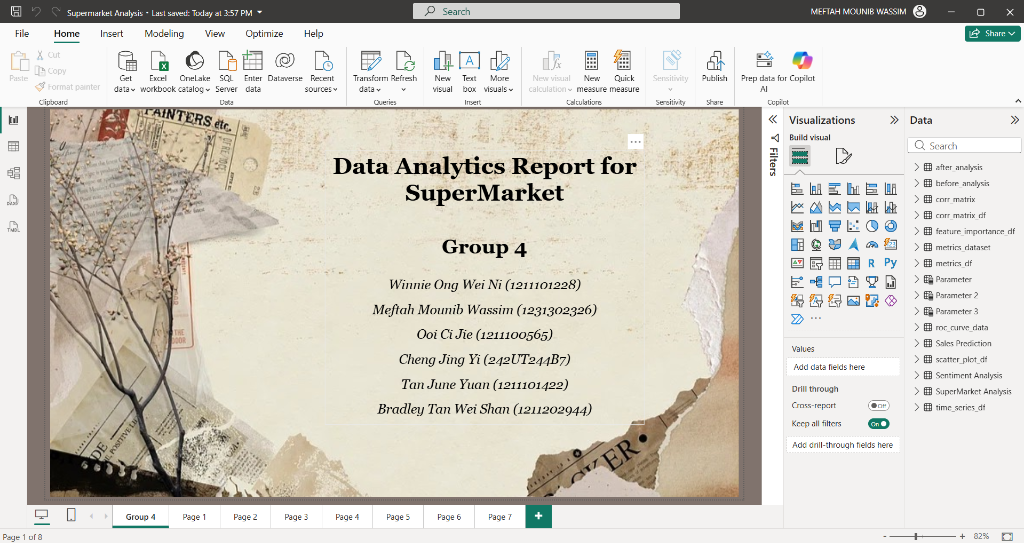

The page's visual inventory and layout, read from the dashboard file:
{"tool":"powerbi","page":{"name":"Group 4","canvas":[1280,720],"ordinal":0},"visuals":[{"type":"image","box":[0,0,1280,720],"z":0},{"type":"textbox","box":[512.9,80,585.7,502.9],"z":1000}]}

Visuals, with their boxes on the page's 1280x720 design canvas (x1, y1, x2, y2). These are canvas units, not pixel positions in the 1024x543 screenshot, which may show the page scaled, cropped or inside an application window:
image: x1=0, y1=0, x2=1280, y2=720
textbox: x1=513, y1=80, x2=1099, y2=583
